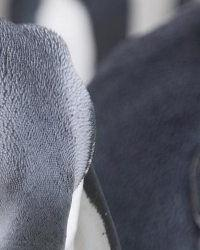Emperor Penguin: (0, 1, 138, 250)
